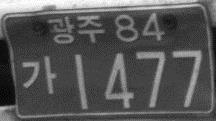1: (72, 52, 92, 112)
4: (104, 53, 134, 110), (140, 12, 165, 43)
7: (133, 50, 166, 109), (172, 48, 202, 108)
8: (113, 12, 139, 42)
가: (20, 54, 56, 95)
광주_O: (46, 13, 104, 46)
